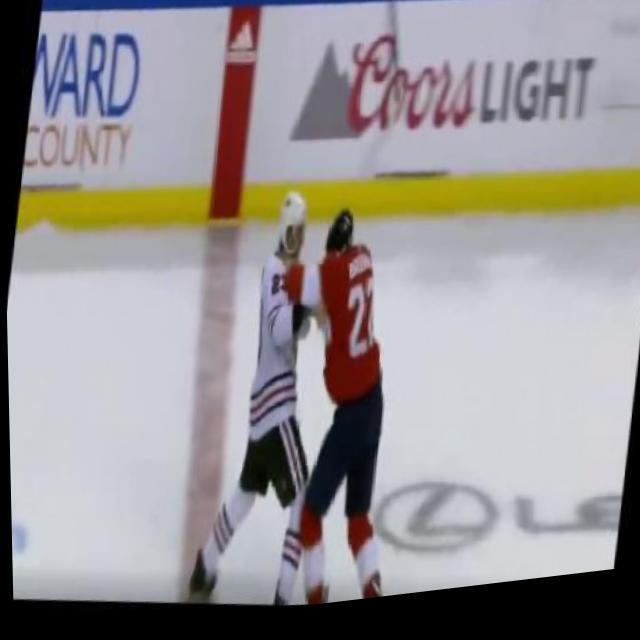fight: (208, 178, 422, 621)
